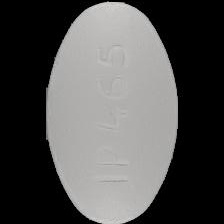63629-1469: (0, 0, 224, 224)
